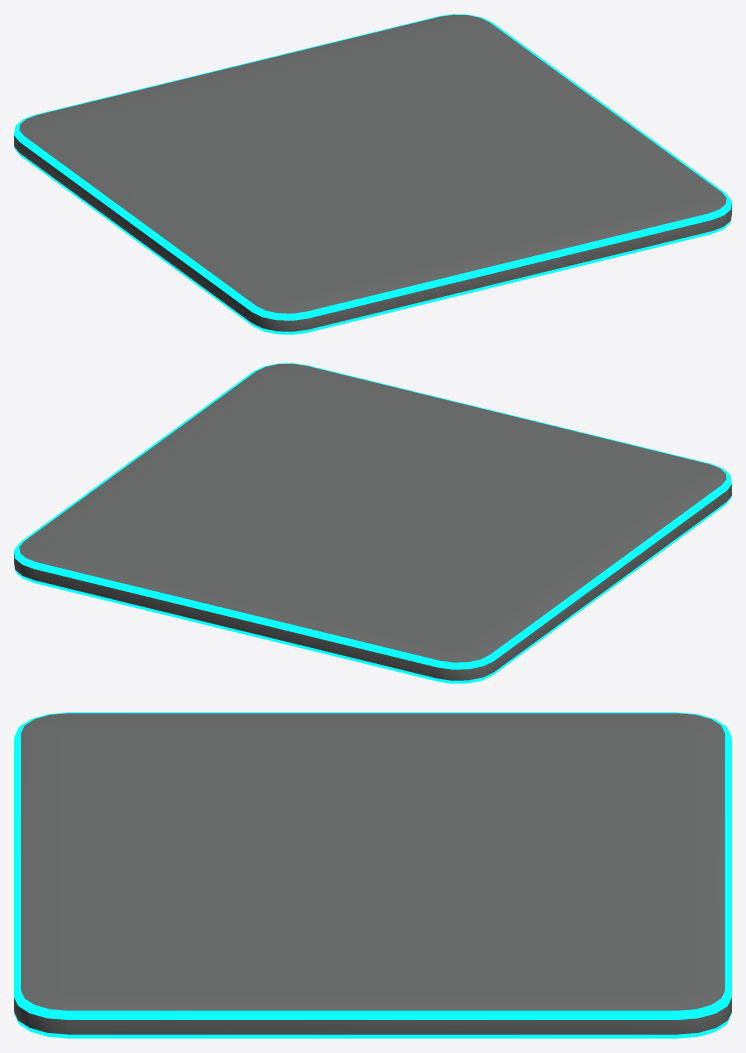
The model's file is BasePlatform.fbx.
3 views of the same model, one above another, from view 1: azimuth 30°, elevation 25°; view 2: azimuth 150°, elevation 25°; view 3: azimuth 270°, elevation 25° (orthographic). The views are drawn at different scales.
Parts seen in each view (by area): view 1: BasePlatform; view 2: BasePlatform; view 3: BasePlatform.
Part boxes in pixels (x1,y1,x2,y2): BasePlatform: (14,14,731,334); BasePlatform: (14,363,731,683); BasePlatform: (14,712,731,1038).
Size of the model in its own units: 120 by 5 by 120.
Materials: 1 (1 with a texture image).
